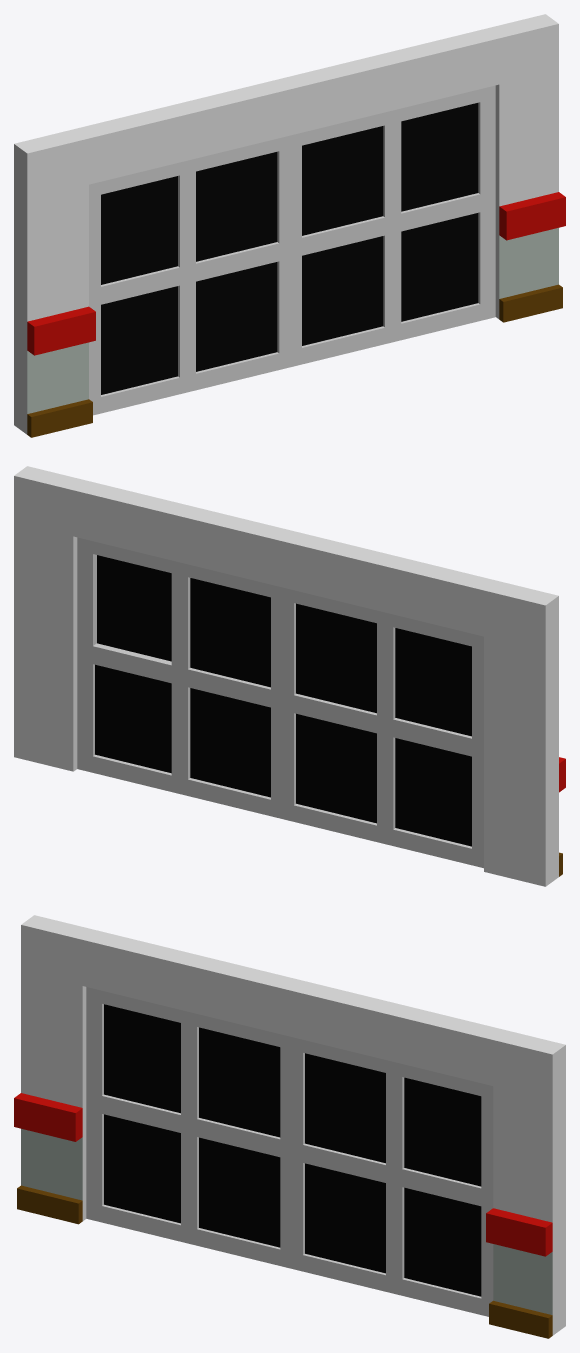
The model's file is H_Wall_Entrance_Reception.fbx.
3 renders of one model, top to bottom at view 1: azimuth 30°, elevation 25°; view 2: azimuth 150°, elevation 25°; view 3: azimuth 330°, elevation 25°, orthographic.
Visible parts, largest first — view 1: H_Wall_Entrance_Reception; view 2: H_Wall_Entrance_Reception; view 3: H_Wall_Entrance_Reception.
Part boxes in pixels (box(x1,y1,x2,y2)): H_Wall_Entrance_Reception: box(14, 14, 565, 437); H_Wall_Entrance_Reception: box(14, 466, 565, 886); H_Wall_Entrance_Reception: box(14, 915, 565, 1338).
Size of the model in its own units: 3000 by 199 by 1518.
